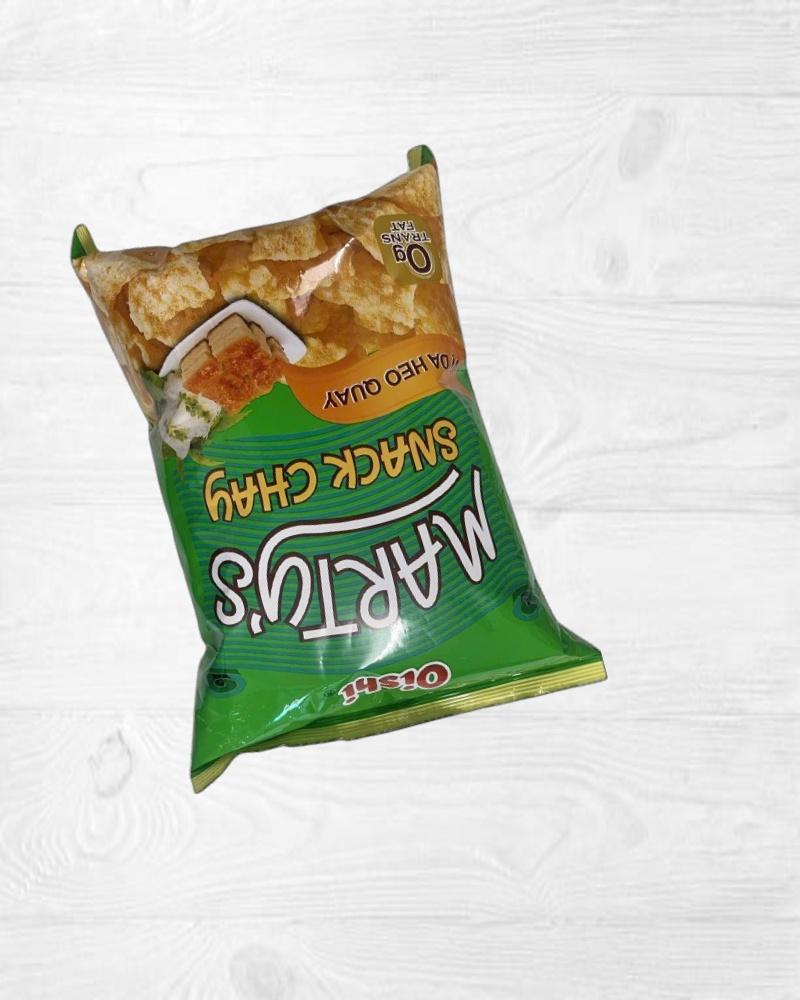Snack chay: (66, 125, 609, 789)
